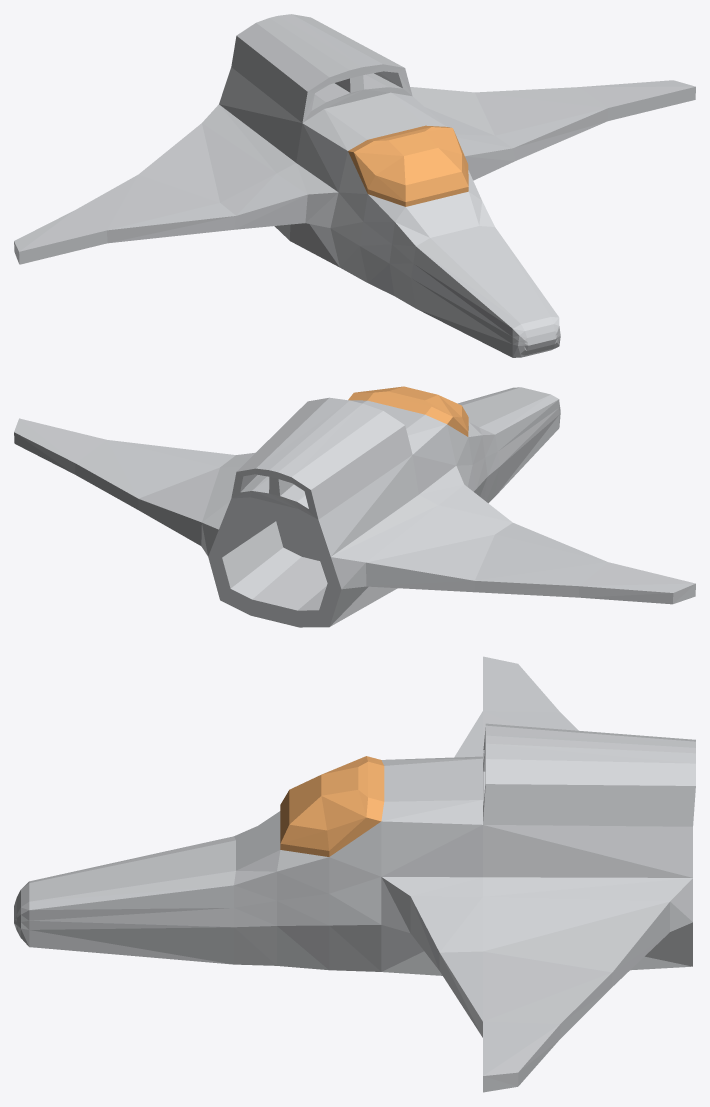
File: ship4.glb
3 views of the same model, one above another, from view 1: azimuth 30°, elevation 25°; view 2: azimuth 150°, elevation 25°; view 3: azimuth 270°, elevation 25° (orthographic). The views are drawn at different scales.
Parts seen in each view (by area): view 1: ship; view 2: ship; view 3: ship.
Part boxes in pixels (x1,y1,x2,y2): ship: [14, 14, 695, 357]; ship: [14, 386, 695, 627]; ship: [14, 656, 695, 1092].
Bounding box in the file's own units: 5.44 × 1.26 × 3.74.
